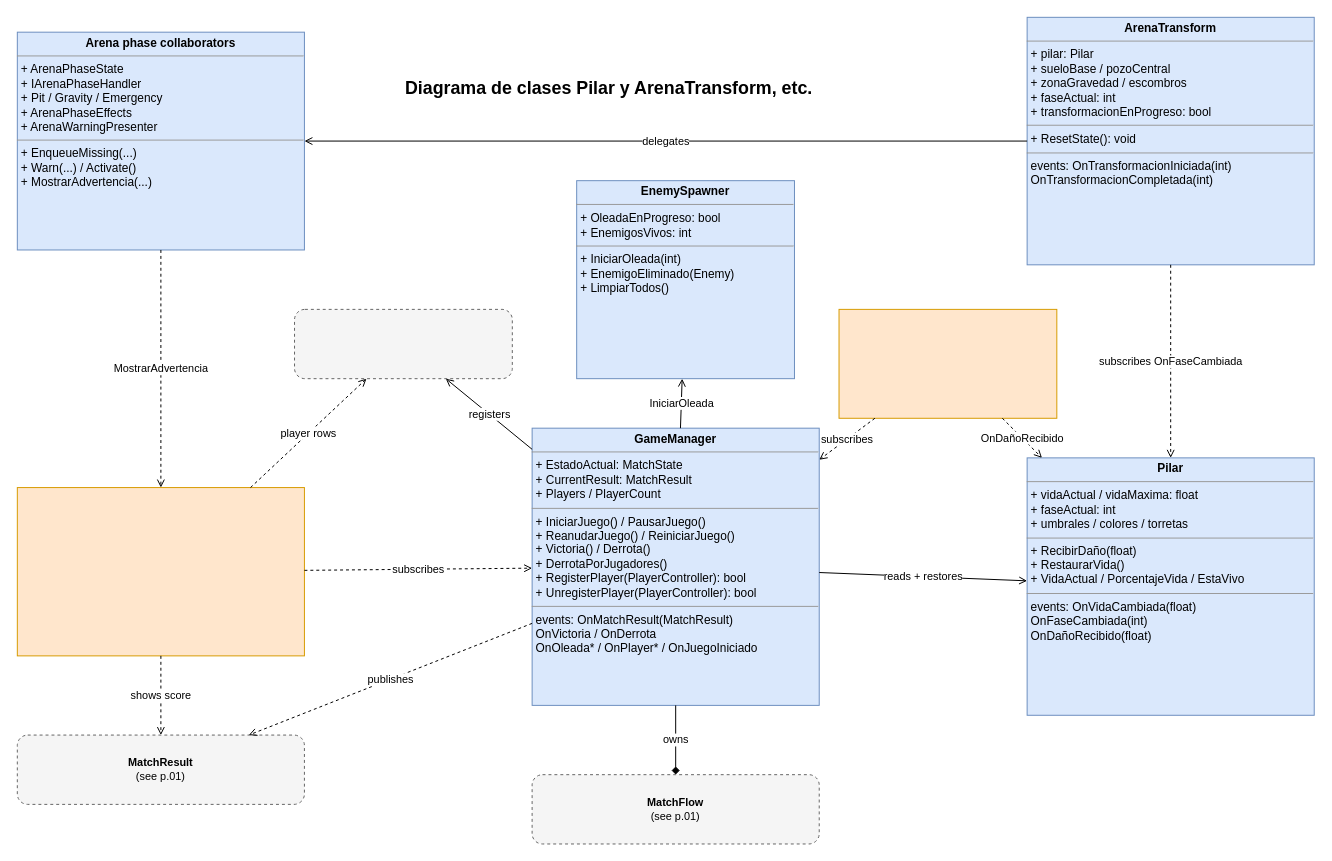
The diagram is 1332 pixels wide and 861 high, and some of its shapes have lost their labels. The shapes that lost their labels are listed below. From the top down, each one's centre as x and y in pixels, then its label:
the point at 403,343: PlayerController (see p.02)
the point at 947,363: AudioAdapter + Play(Sfx)
the point at 160,571: Hud + MostrarMensaje(string) + MostrarAdvertencia(...) + FlashCrosshair(bool)
